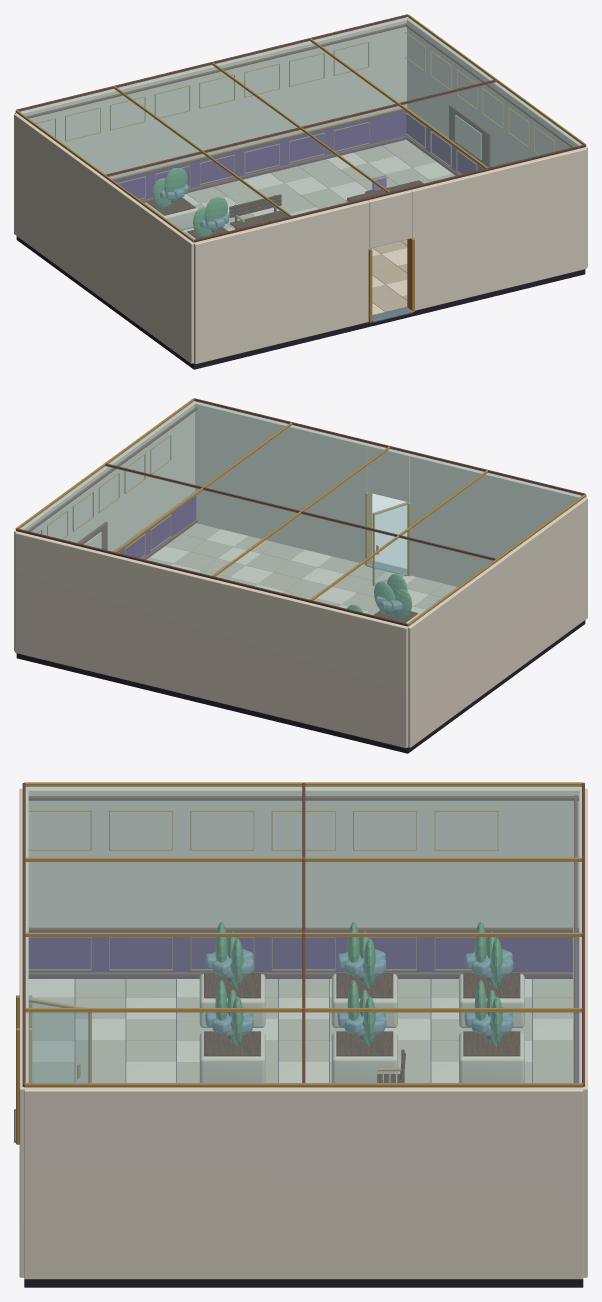
Rendered from hotel_indoor_garden.glb.
The picture shows the model from 3 angles, top to bottom: view 1: azimuth 30°, elevation 25°; view 2: azimuth 150°, elevation 25°; view 3: azimuth 270°, elevation 25°; orthographic projection. The views are drawn at different scales.
Visible parts, largest first — view 1: glass_roof, structural_wall.003, structural_wall.004, front_wall, front_wall.001, structural_wall.005, violet_wainscot.003, floor, front_lintel, violet_wainscot.005, roof_cross_rib, roof_cross_rib.001 (+17 smaller); view 2: glass_roof, structural_wall.003, structural_wall.004, front_wall.001, front_wall, structural_wall.005, floor, front_lintel, garden_entry_glass_leaf, violet_wainscot.005, roof_cross_rib.002, roof_cross_rib (+11 smaller); view 3: glass_roof, structural_wall.005, structural_wall.004, violet_wainscot.004, floor, garden_entry_glass_leaf, roof_brass_rib.004, roof_brass_rib.001, roof_brass_rib.002, roof_brass_rib, roof_brass_rib.003, walnut_moulding.014 (+50 smaller).
Boxes of the visible parts, left/top/right/bottom form: glass_roof: left=19, top=16, right=582, bottom=239; structural_wall.003: left=15, top=17, right=407, bottom=178; structural_wall.004: left=14, top=113, right=194, bottom=363; front_wall: left=193, top=200, right=369, bottom=364; front_wall.001: left=410, top=148, right=586, bottom=310; structural_wall.005: left=407, top=18, right=587, bottom=267; violet_wainscot.003: left=114, top=110, right=406, bottom=200; floor: left=16, top=236, right=585, bottom=369; front_lintel: left=368, top=190, right=412, bottom=248; violet_wainscot.005: left=406, top=112, right=483, bottom=175; roof_cross_rib: left=194, top=144, right=585, bottom=242; roof_cross_rib.001: left=105, top=79, right=496, bottom=176; glass_roof: left=19, top=400, right=582, bottom=623; structural_wall.003: left=15, top=532, right=408, bottom=748; structural_wall.004: left=406, top=497, right=587, bottom=747; front_wall.001: left=194, top=401, right=368, bottom=564; front_wall: left=410, top=454, right=586, bottom=586; structural_wall.005: left=14, top=402, right=194, bottom=651; floor: left=16, top=620, right=585, bottom=753; front_lintel: left=367, top=444, right=411, bottom=502; garden_entry_glass_leaf: left=375, top=505, right=406, bottom=582; violet_wainscot.005: left=118, top=496, right=196, bottom=559; roof_cross_rib.002: left=16, top=528, right=407, bottom=626; roof_cross_rib: left=194, top=398, right=585, bottom=495; glass_roof: left=26, top=785, right=581, bottom=1082; structural_wall.005: left=24, top=1087, right=583, bottom=1279; structural_wall.004: left=25, top=786, right=581, bottom=926; violet_wainscot.004: left=28, top=931, right=572, bottom=979; floor: left=24, top=980, right=583, bottom=1287; garden_entry_glass_leaf: left=29, top=1000, right=87, bottom=1082; roof_brass_rib.004: left=24, top=1083, right=583, bottom=1087; roof_brass_rib.001: left=25, top=857, right=582, bottom=861; roof_brass_rib.002: left=25, top=932, right=582, bottom=936; roof_brass_rib: left=24, top=782, right=583, bottom=786; roof_brass_rib.003: left=25, top=1008, right=582, bottom=1012; walnut_moulding.014: left=28, top=796, right=578, bottom=800.
Bounding box in the file's own units: 14.18 × 4.44 × 11.29.
22 materials, 4 textured.
